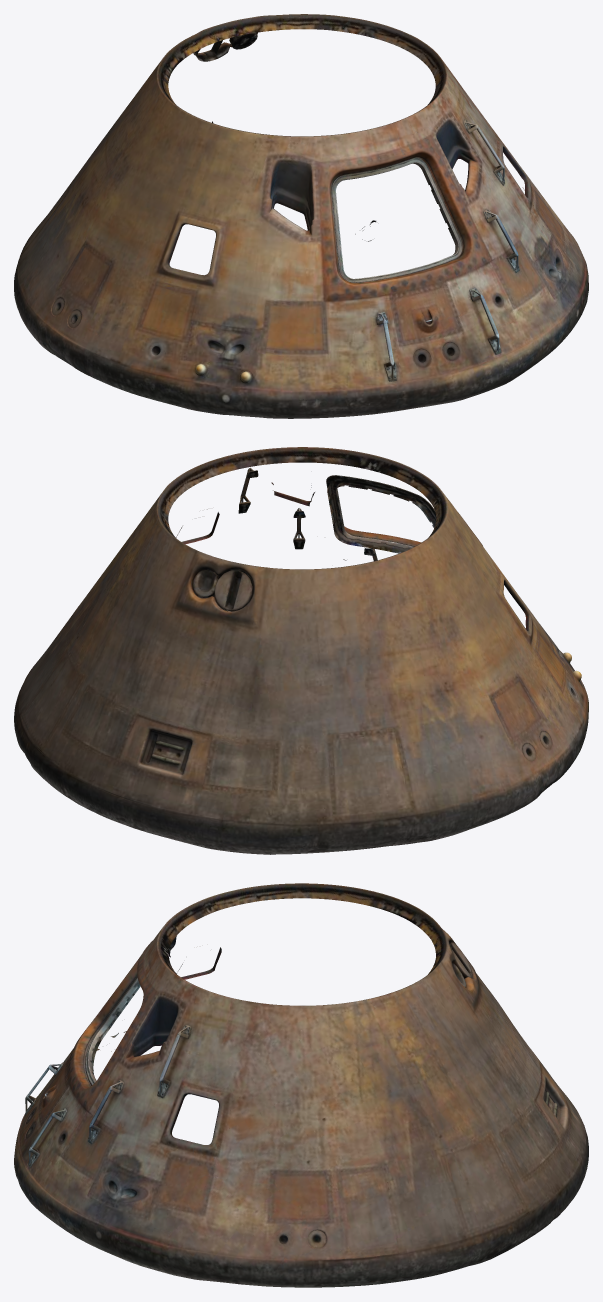
The model's file is columbia-shell.glb.
3 renders of one model, top to bottom at view 1: azimuth 30°, elevation 25°; view 2: azimuth 150°, elevation 25°; view 3: azimuth 270°, elevation 25°, orthographic.
Size of the model in its own units: 391 by 212 by 392.
Materials: 1 (1 with a texture image).
